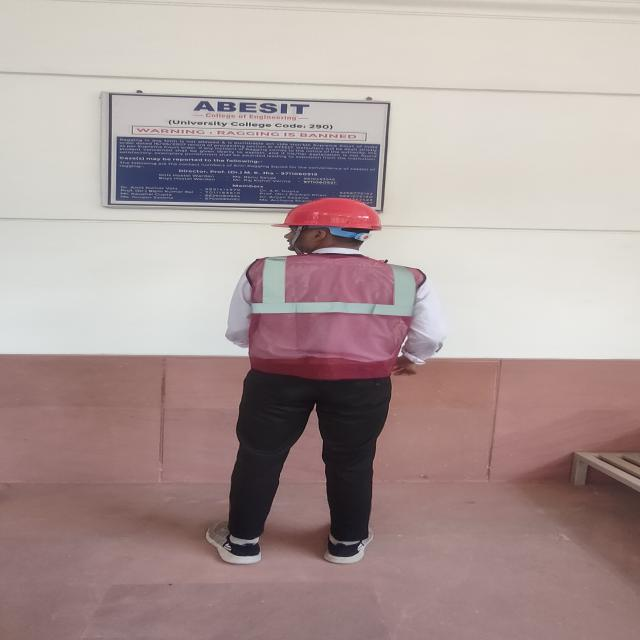safe: (207, 198, 440, 563)
